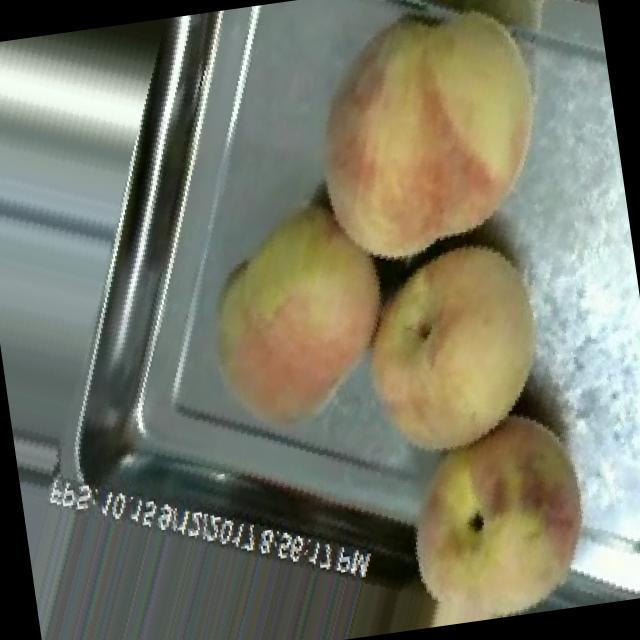Fruit: (253, 0, 606, 318), (155, 158, 444, 476), (312, 196, 596, 501), (359, 378, 632, 634)
